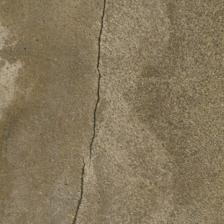Crack: (0, 58, 175, 142), (0, 0, 52, 108)
